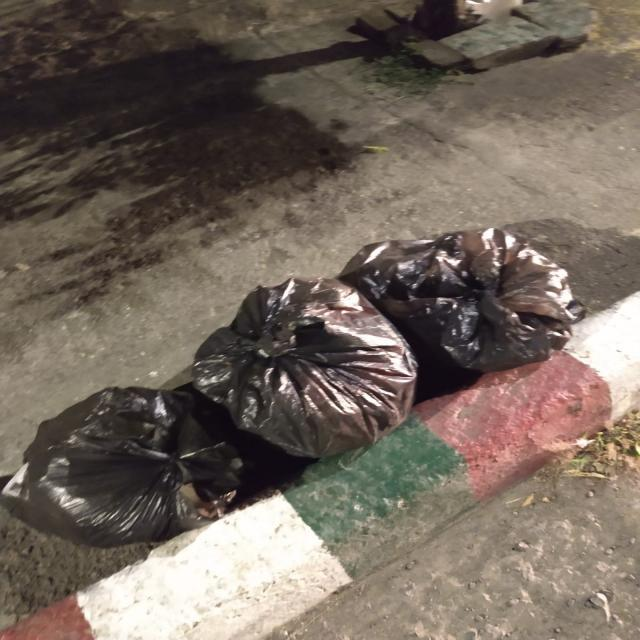high trash: (4, 229, 584, 546)
